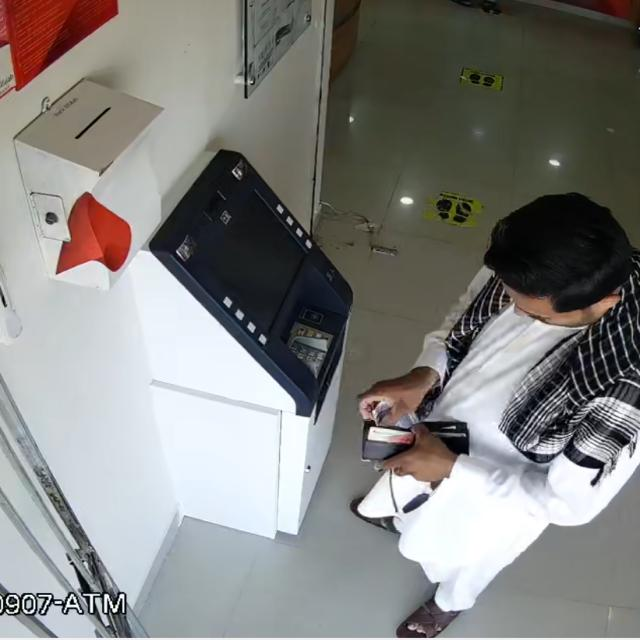note: (361, 397, 434, 443)
